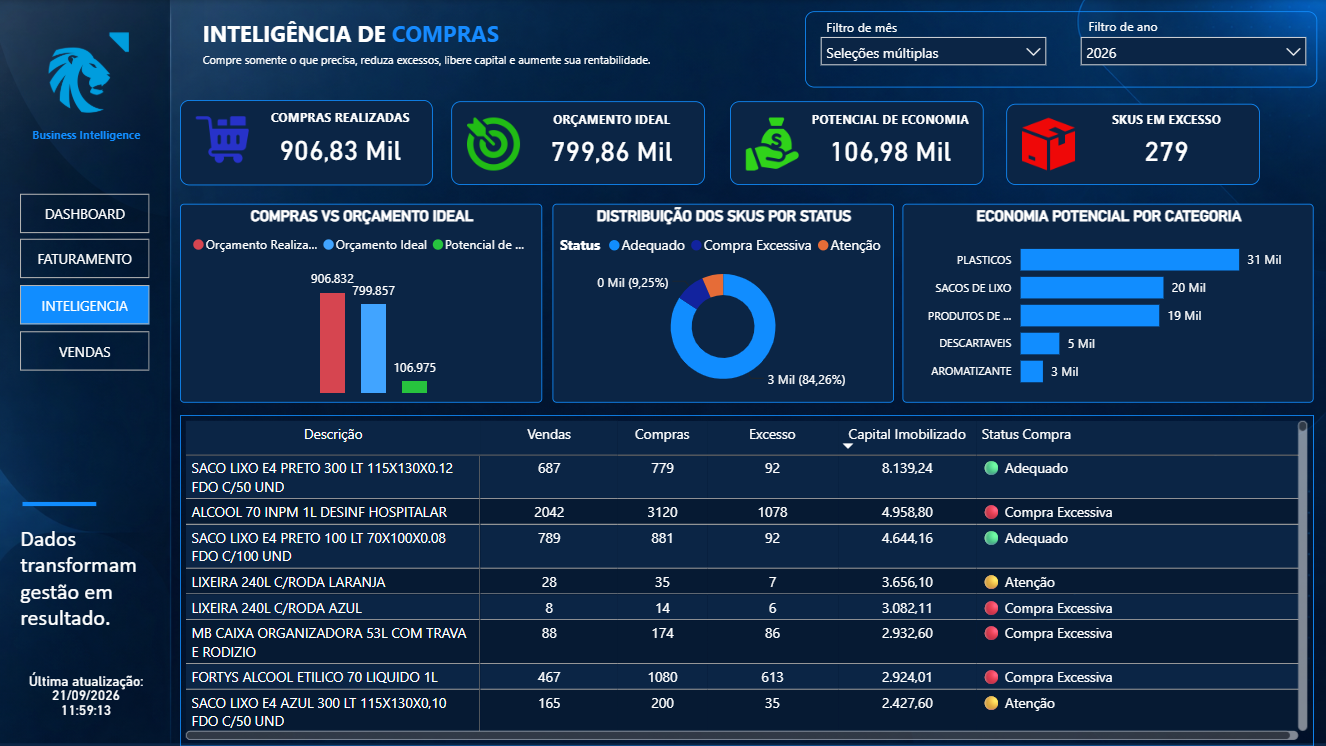

The page's visual inventory and layout, read from the dashboard file:
{"tool":"powerbi","page":{"name":"INTELIGENCIA","canvas":[1280,720],"ordinal":2},"visuals":[{"type":"textbox","box":[776.9,10.9,494.6,73.6],"z":0},{"type":"pivotTable","fields":{"Rows":["DimProduto.Descrição"],"Values":["medidasCompras.Vendas Acumuladas","medidasCompras.Compras Acumuladas","medidasCompras.Excesso Compra","medidasCompras.Capital Imobilizado Acumulado","medidasCompras.Status Compra"]},"box":[173.7,400.5,1094.2,319.7],"z":1000},{"type":"clusteredColumnChart","title":"COMPRAS VS ORÇAMENTO IDEAL","fields":{"Y":["medidasCompras.totalCompras","medidasCompras.Orçamento Ideal","medidasCompras.Potencial Redução"]},"box":[173.7,196.6,349.9,191.8],"z":2000},{"type":"donutChart","title":"DISTRIBUIÇÃO DOS SKUS POR STATUS","fields":{"Category":["StatusCompra.Status"],"Y":["medidasCompras.Qtd SKUs por Status"]},"box":[533.2,196.6,329.4,191.8],"z":3000},{"type":"barChart","title":"ECONOMIA POTENCIAL POR CATEGORIA","fields":{"Category":["DimProduto.Categoria"],"Y":["medidasCompras.Potencial de Redução"]},"box":[871.1,196.6,396.9,191.8],"z":4000},{"type":"textbox","box":[190.6,12.1,355.9,41],"z":5000},{"type":"textbox","box":[191.1,42.7,458.7,39.9],"z":6000},{"type":"textbox","box":[173.5,96.4,244.3,82.3],"z":7000},{"type":"card","title":"Total Spent","fields":{"Values":["medidasCompras.totalCompras"]},"box":[238.3,110.2,179.5,68.6],"z":8000},{"type":"textbox","box":[242,98.9,172,32.4],"z":9000},{"type":"image","box":[173.5,112.6,81,51.1],"z":10000},{"type":"textbox","box":[435.5,97.7,244.9,80.8],"z":11000},{"type":"card","title":"Total Spent","fields":{"Values":["medidasCompras.Orçamento Ideal"]},"box":[500.3,111,179.5,68.6],"z":12000},{"type":"textbox","box":[504.1,99.7,172,32.4],"z":13000},{"type":"image","box":[435.5,113.5,81,51.1],"z":14000},{"type":"textbox","box":[704.6,97.7,244.9,80.8],"z":15000},{"type":"card","title":"Total Spent","fields":{"Values":["medidasCompras.Potencial de Redução"]},"box":[769.5,111,179.5,68.6],"z":16000},{"type":"textbox","box":[773.3,99.8,172,32.4],"z":17000},{"type":"image","box":[704.7,113.5,81,51.1],"z":18000},{"type":"textbox","box":[971.2,100.1,244.9,78.4],"z":19000},{"type":"card","title":"Total Spent","fields":{"Values":["medidasCompras.SKUs Compra Excessiva"]},"box":[1036.2,110.9,179.5,68.6],"z":20000},{"type":"textbox","box":[1040,99.7,172,32.4],"z":21000},{"type":"image","box":[971.4,113.4,81,51.1],"z":22000},{"type":"slicer","fields":{"Values":["Calendario.Ano"]},"box":[1032.7,25.3,238.2,49.2],"z":32000},{"type":"slicer","fields":{"Values":["Calendario.Nome do Mês"]},"box":[781.8,25.3,238.2,49.2],"z":33000},{"type":"textbox","box":[776.9,12.1,109.8,37.4],"z":34000},{"type":"textbox","box":[1029.1,10.9,109.8,37.4],"z":35000},{"type":"textbox","box":[19.3,114.6,127.9,39.8],"z":35001},{"type":"pageNavigator","box":[19.8,186.8,125.5,38.6],"z":35002},{"type":"pageNavigator","box":[19.8,230.2,125.5,38.6],"z":35003},{"type":"pageNavigator","box":[19.8,274.8,125.5,38.6],"z":35004},{"type":"pageNavigator","box":[19.8,319.5,125.5,38.6],"z":35005},{"type":"card","title":"Volume (Kg)","fields":{"Values":["medidasClientes.Última Atualização"]},"box":[21.7,627.3,123.1,91.7],"z":35006},{"type":"image","box":[12.1,3.6,147.2,132.7],"z":35007},{"type":"textbox","box":[14.5,501.9,153,116],"z":35008},{"type":"shape","box":[21.7,470.5,71.4,31.9],"z":35009}]}

Visuals, with their boxes in screenshot pixels (x1, y1, x2, y2), scaled from the page's 1280x720 canvas onto the 1326x746 screenshot:
textbox: x1=805 y1=11 x2=1317 y2=88
pivotTable - DimProduto.Descrição x medidasCompras.Vendas Acumuladas: x1=180 y1=415 x2=1313 y2=745
"COMPRAS VS ORÇAMENTO IDEAL" clusteredColumnChart: x1=180 y1=204 x2=542 y2=402
"DISTRIBUIÇÃO DOS SKUS POR STATUS" donutChart: x1=552 y1=204 x2=894 y2=402
"ECONOMIA POTENCIAL POR CATEGORIA" barChart: x1=902 y1=204 x2=1314 y2=402
textbox: x1=197 y1=13 x2=566 y2=55
textbox: x1=198 y1=44 x2=673 y2=86
textbox: x1=180 y1=100 x2=433 y2=185
"Total Spent" card: x1=247 y1=114 x2=433 y2=185
textbox: x1=251 y1=102 x2=429 y2=136
image: x1=180 y1=117 x2=264 y2=170
textbox: x1=451 y1=101 x2=705 y2=185
"Total Spent" card: x1=518 y1=115 x2=704 y2=186
textbox: x1=522 y1=103 x2=700 y2=137
image: x1=451 y1=118 x2=535 y2=171
textbox: x1=730 y1=101 x2=984 y2=185
"Total Spent" card: x1=797 y1=115 x2=983 y2=186
textbox: x1=801 y1=103 x2=979 y2=137
image: x1=730 y1=118 x2=814 y2=171
textbox: x1=1006 y1=104 x2=1260 y2=185
"Total Spent" card: x1=1073 y1=115 x2=1259 y2=186
textbox: x1=1077 y1=103 x2=1256 y2=137
image: x1=1006 y1=117 x2=1090 y2=170
slicer - Calendario.Ano: x1=1070 y1=26 x2=1317 y2=77
slicer - Calendario.Nome do Mês: x1=810 y1=26 x2=1057 y2=77
textbox: x1=805 y1=13 x2=919 y2=51
textbox: x1=1066 y1=11 x2=1180 y2=50
textbox: x1=20 y1=119 x2=152 y2=160
pageNavigator: x1=21 y1=194 x2=151 y2=234
pageNavigator: x1=21 y1=239 x2=151 y2=279
pageNavigator: x1=21 y1=285 x2=151 y2=325
pageNavigator: x1=21 y1=331 x2=151 y2=371
"Volume (Kg)" card: x1=22 y1=650 x2=150 y2=745
image: x1=13 y1=4 x2=165 y2=141
textbox: x1=15 y1=520 x2=174 y2=640
shape: x1=22 y1=487 x2=96 y2=521
